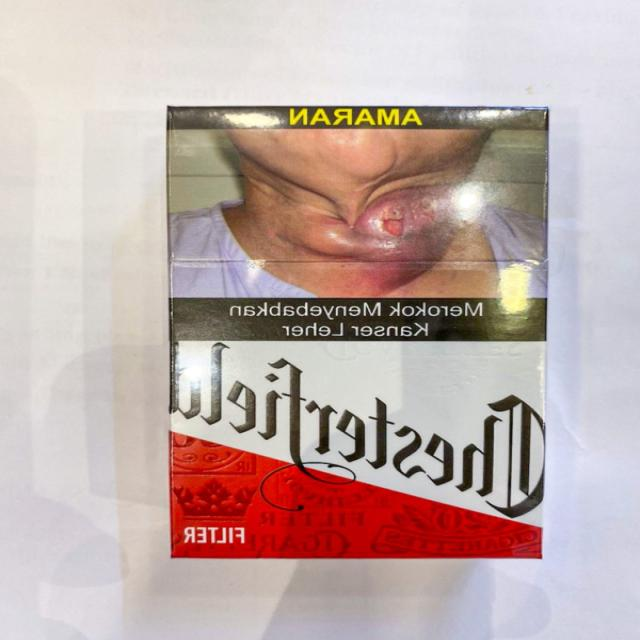chesterfield: (165, 100, 564, 561)
